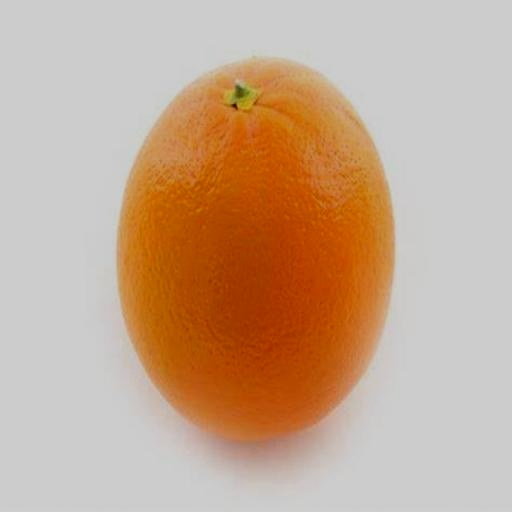fruit: (118, 59, 393, 439)
